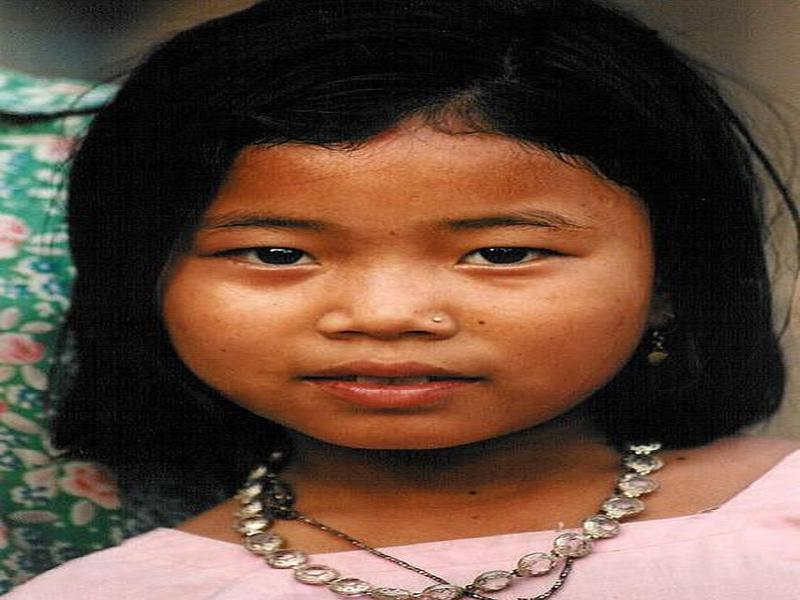person: (27, 6, 798, 600)
